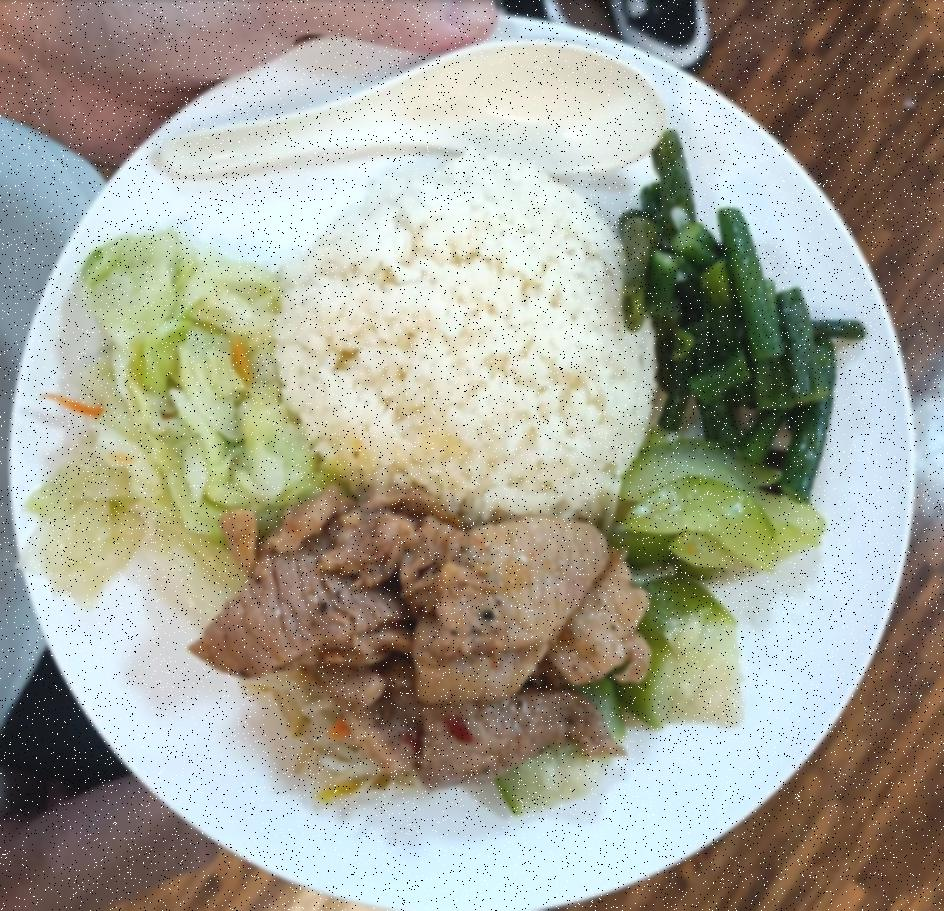big fried chicken leg: (7, 6, 922, 911)
big herbal chicken leg: (282, 147, 656, 524)
braised fish fillet: (14, 224, 312, 596), (614, 118, 863, 498), (607, 424, 814, 733)
braised pork: (191, 504, 652, 774)
